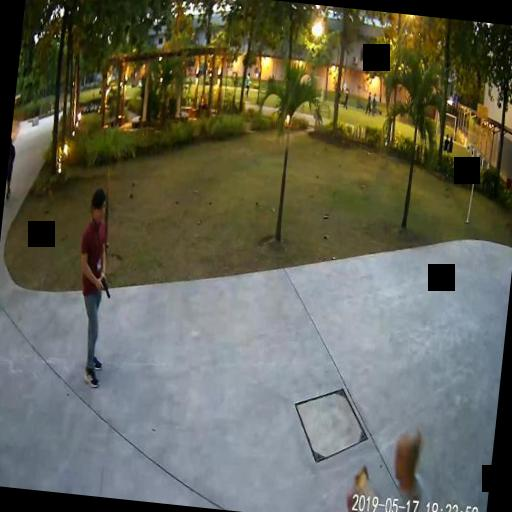Handgun: (97, 274, 110, 296)
